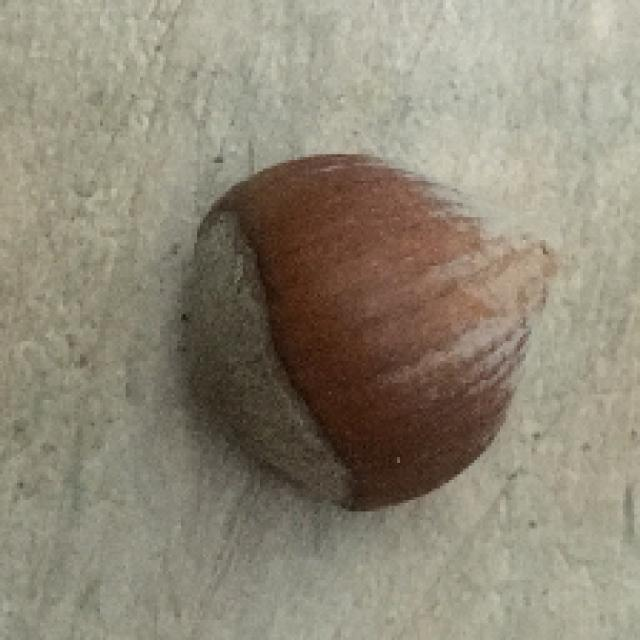QualityHazelnut: (179, 149, 568, 514)
